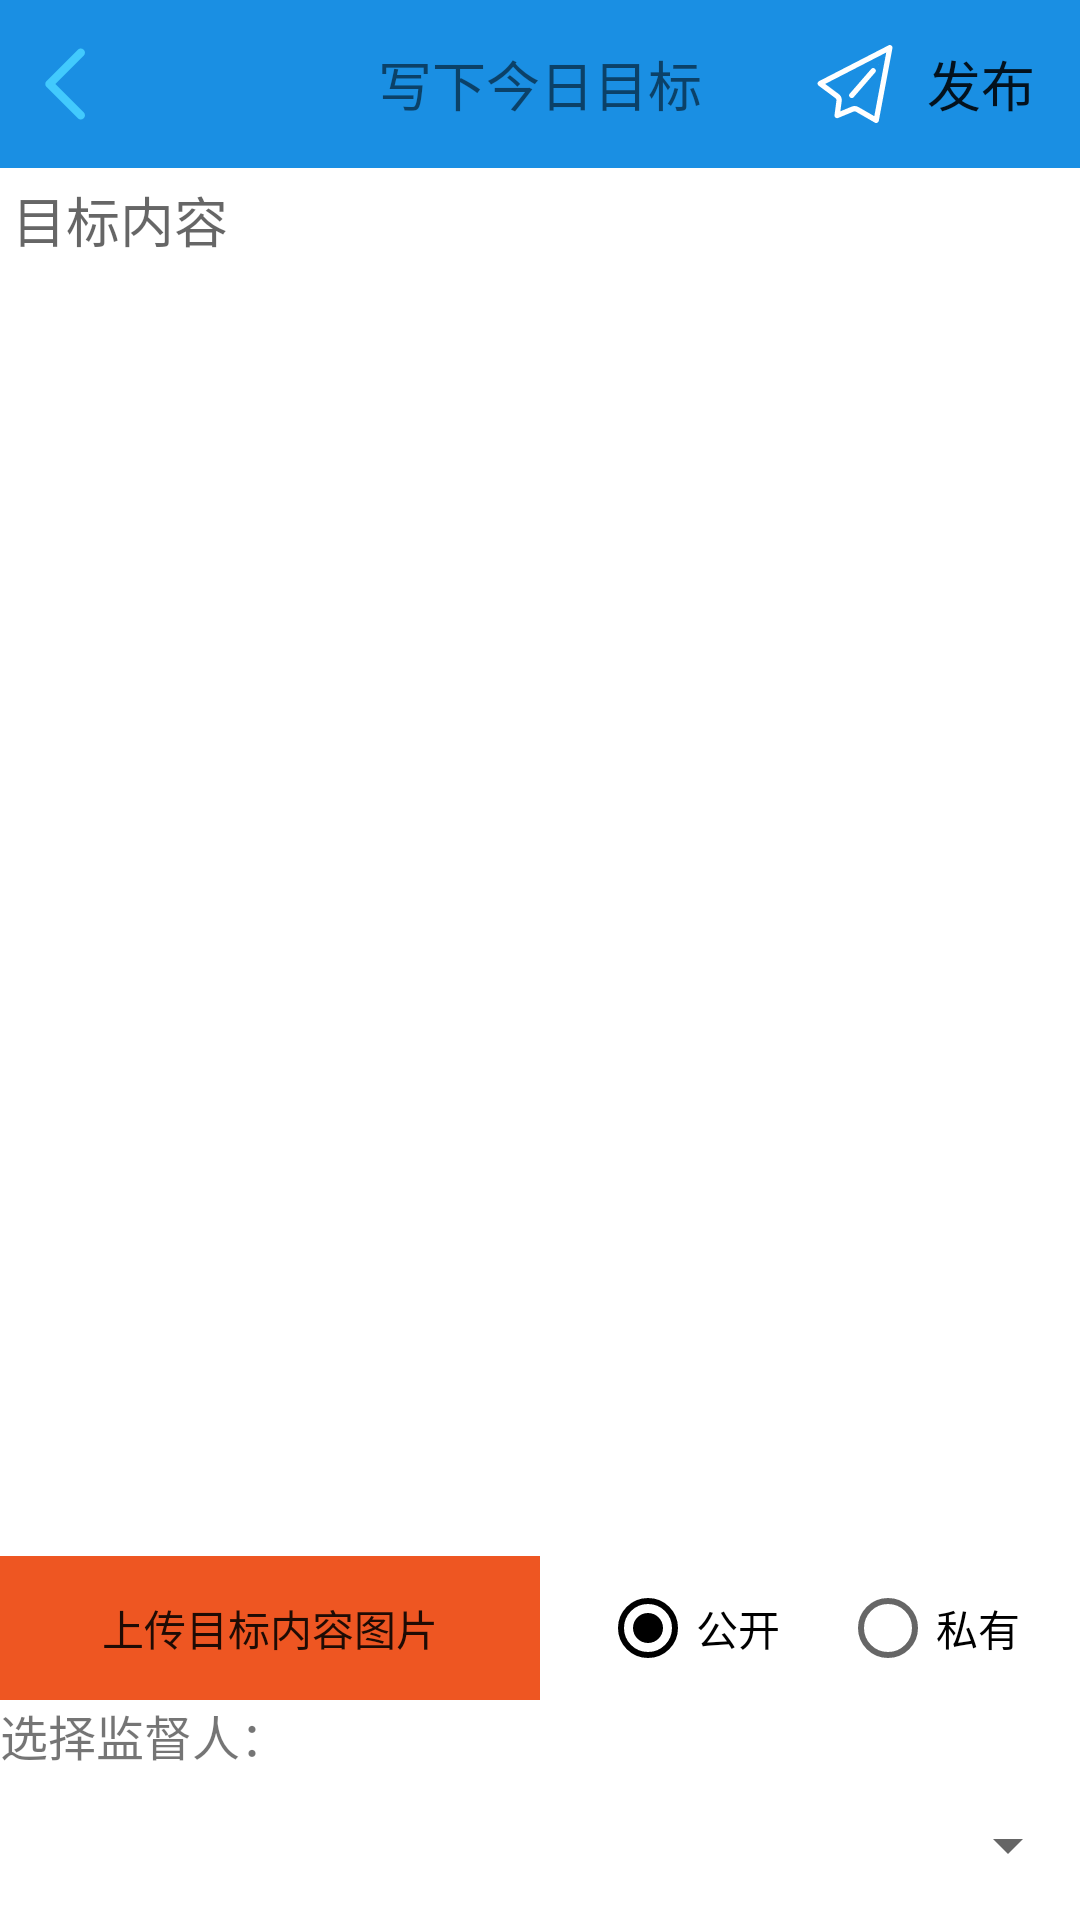

Named icons in this screenshot (1080w x 1920h) and their centers, (x,y):
back: (65,84)
